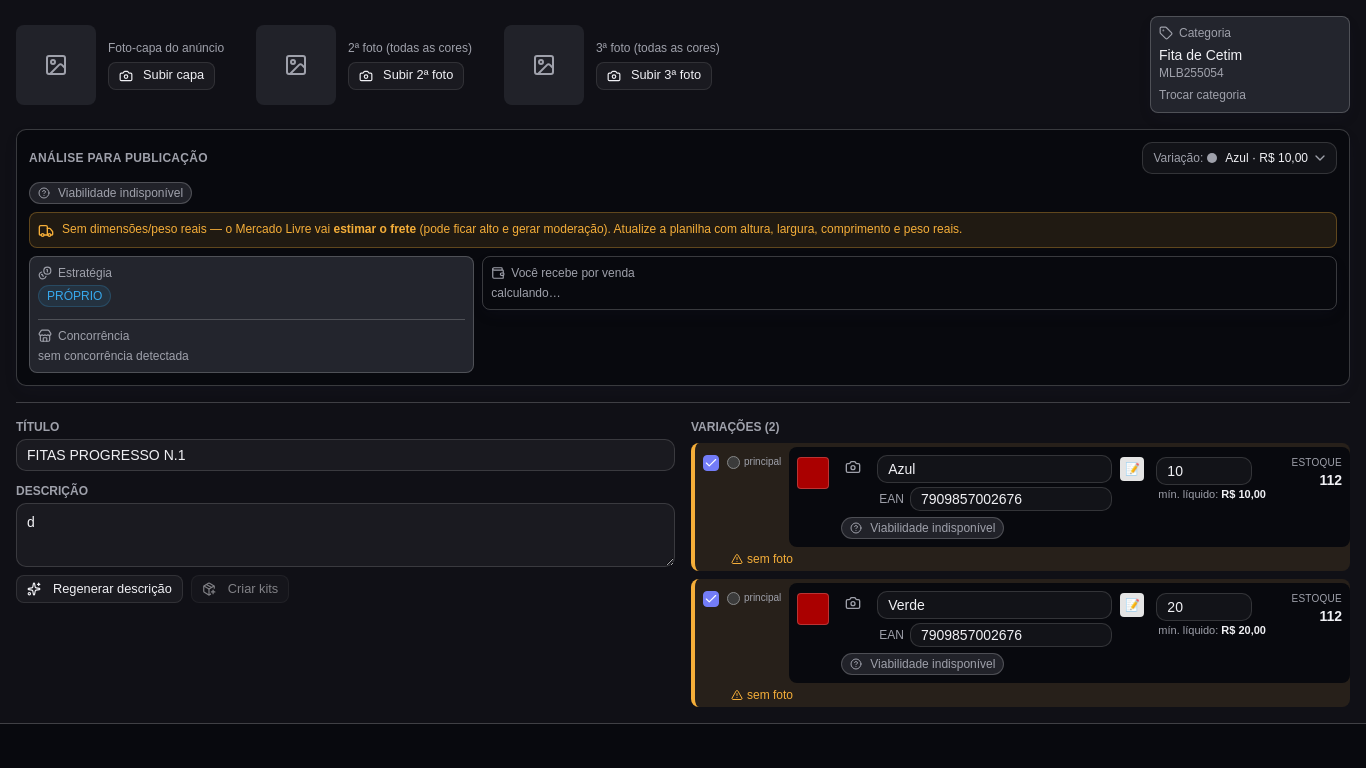
FamiliaExpanded — prompt "aplicar às demais?" (ADR-0078 F2b, achado do review) › família nova (CREATE) mantém a copy neutra de "anúncios separados"
Replace the text in the 2nd field showing "10" with "15" at (1204, 471), box [1156,457,1252,485]
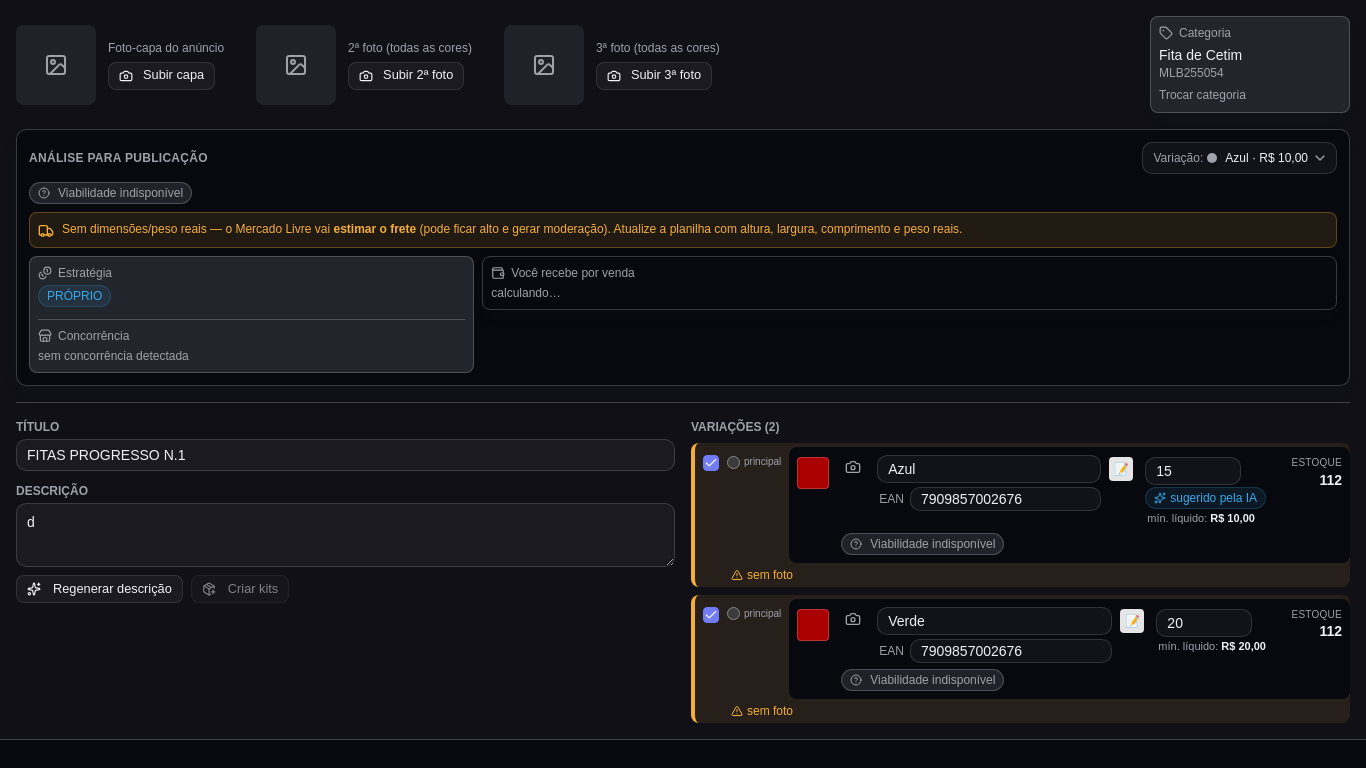
Leave the 2nd field showing "10", box [1145,457,1241,485]
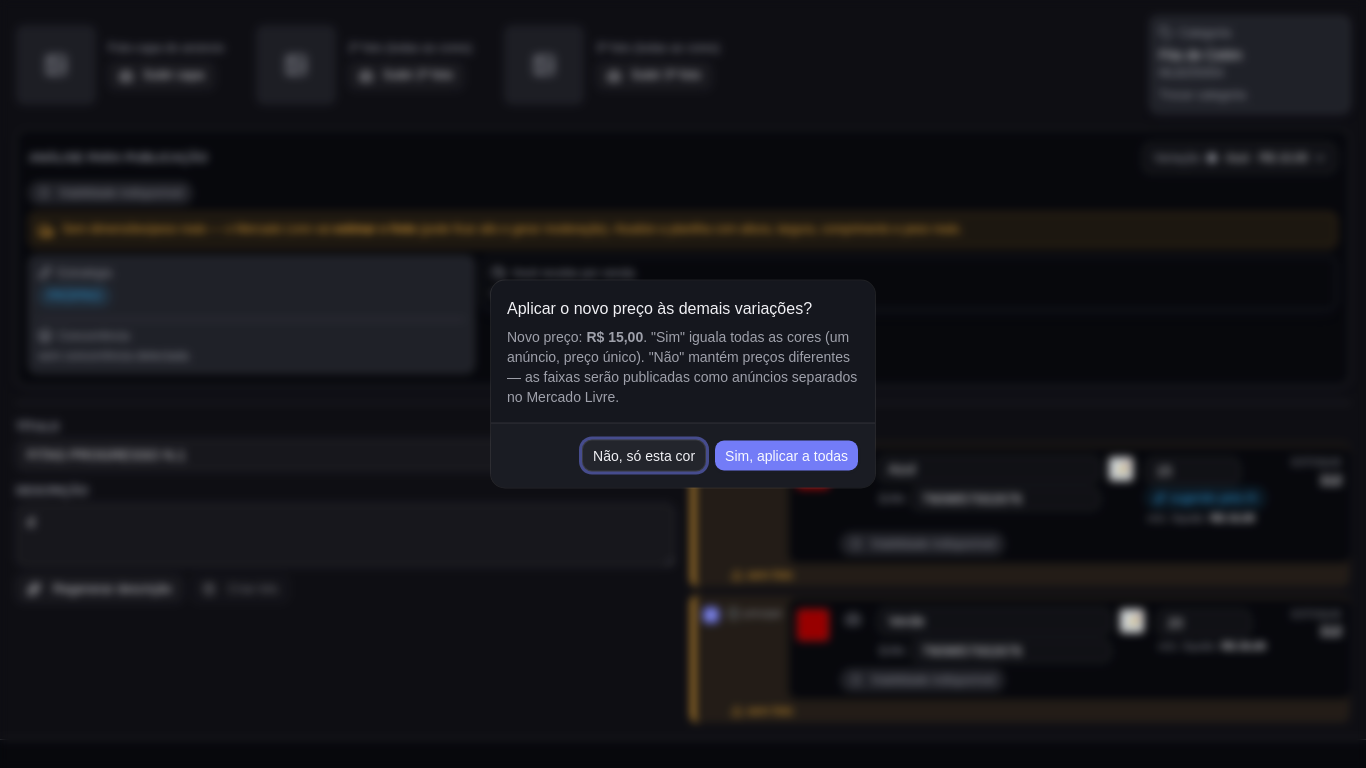
expect the heading "Aplicar o novo preço às demais variações?" is shown: met, box [507,296,812,320]
expect the text "anúncios separados no Mercado Livre" is shown: met, box [507,328,857,404]
expect the button "Não, só esta cor" is shown: met, box [582,440,706,472]
